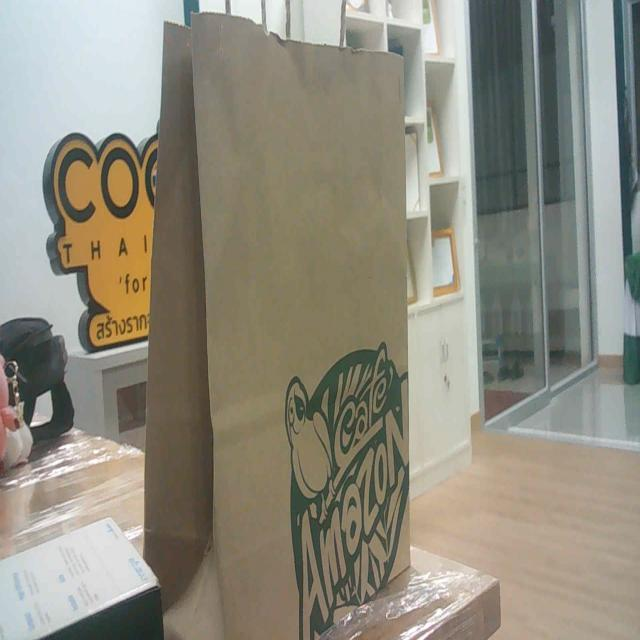bag: (148, 1, 420, 630)
